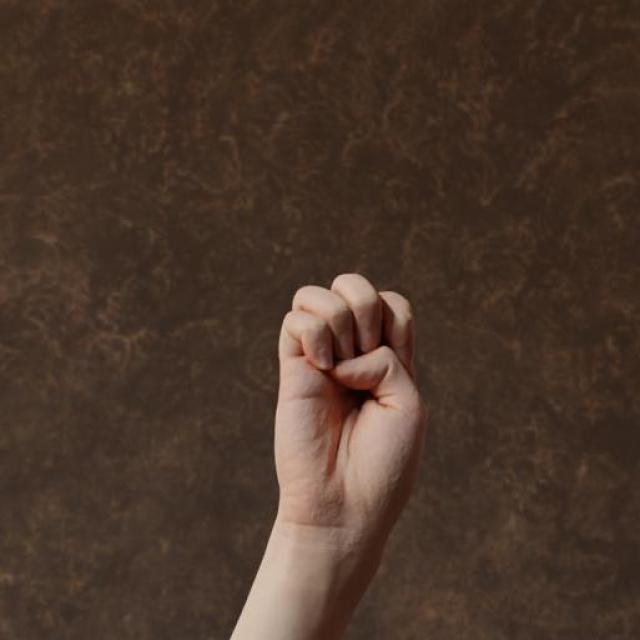E: (268, 267, 427, 535)
